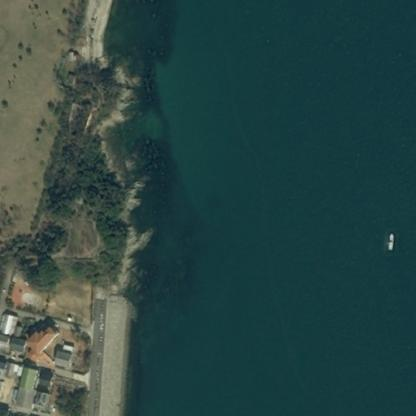ship: (382, 227, 398, 256)
